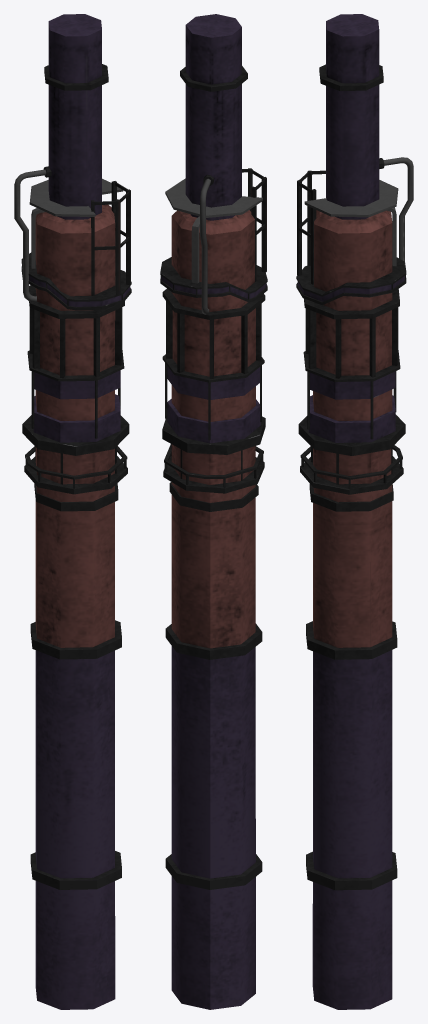
The model's file is CHM0310177.fbx.
3 renders of one model, left to right at view 1: azimuth 90°, elevation 25°; view 2: azimuth 150°, elevation 25°; view 3: azimuth 270°, elevation 25°, orthographic.
Visible parts, largest first — view 1: smCHM0310177; view 2: smCHM0310177; view 3: smCHM0310177.
Boxes of the visible parts, x1,y1,x2,y2 form: smCHM0310177: [14, 14, 131, 1009]; smCHM0310177: [160, 14, 267, 1009]; smCHM0310177: [296, 14, 413, 1009].
Size of the model in its own units: 314 by 3126 by 344.
